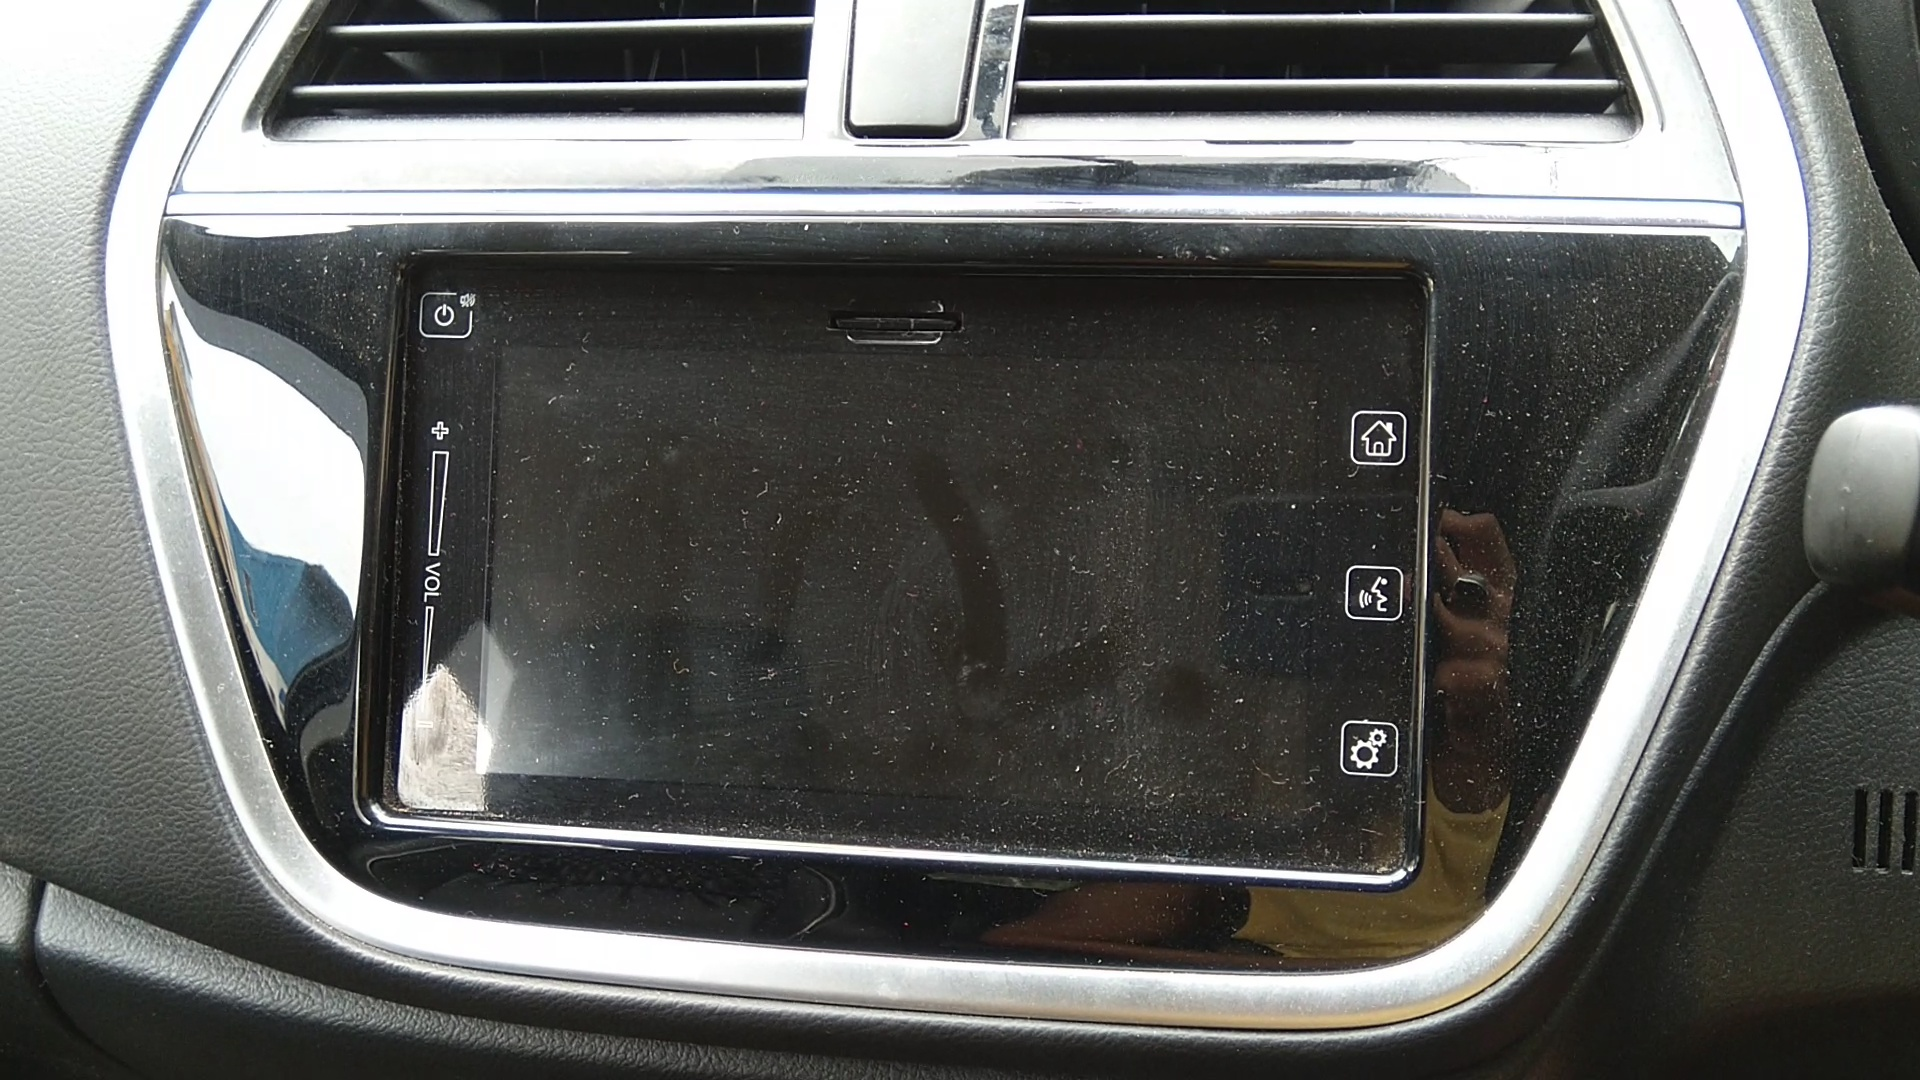touch_infotainment: (344, 220, 1449, 920)
